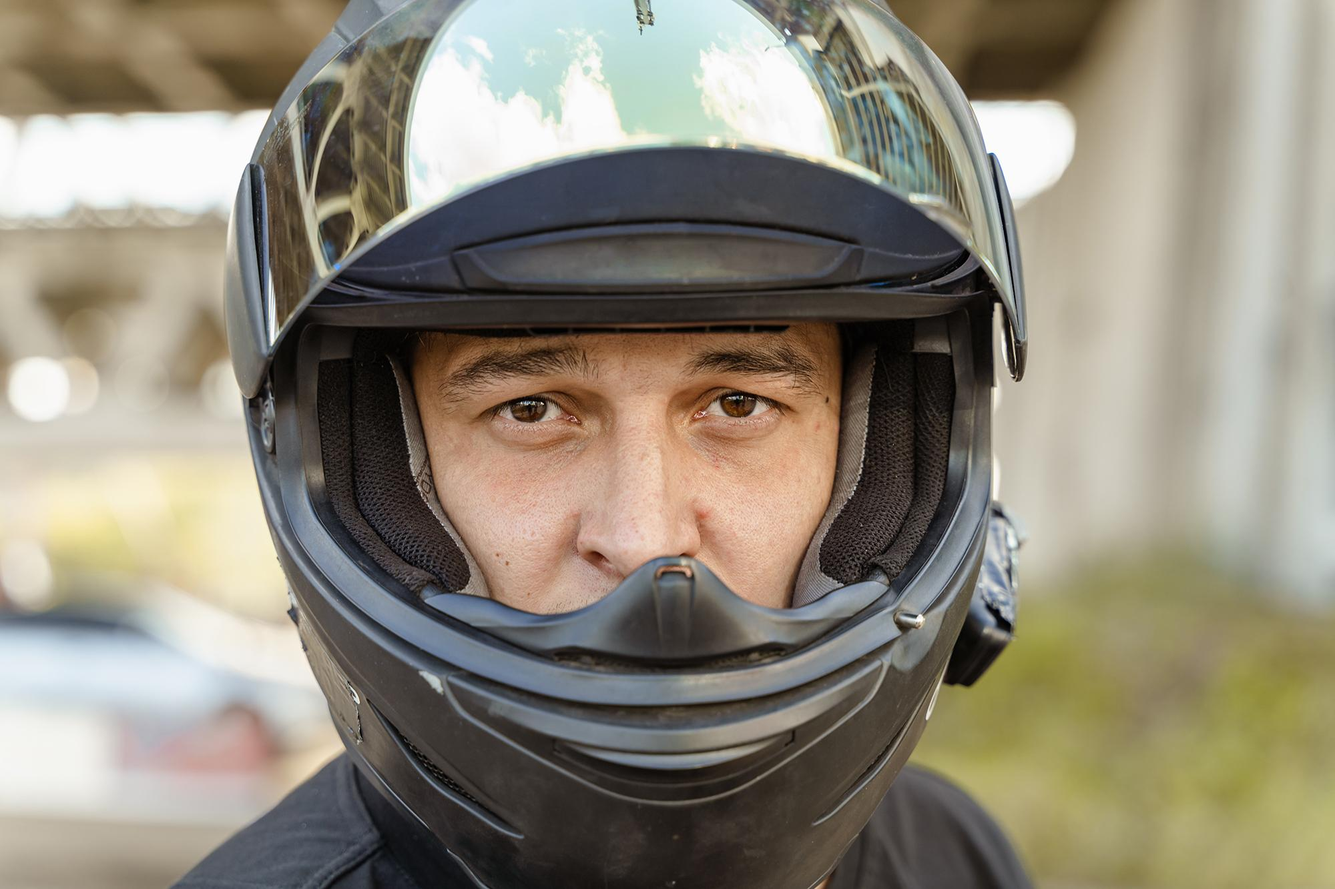helmet: (220, 0, 1032, 889)
